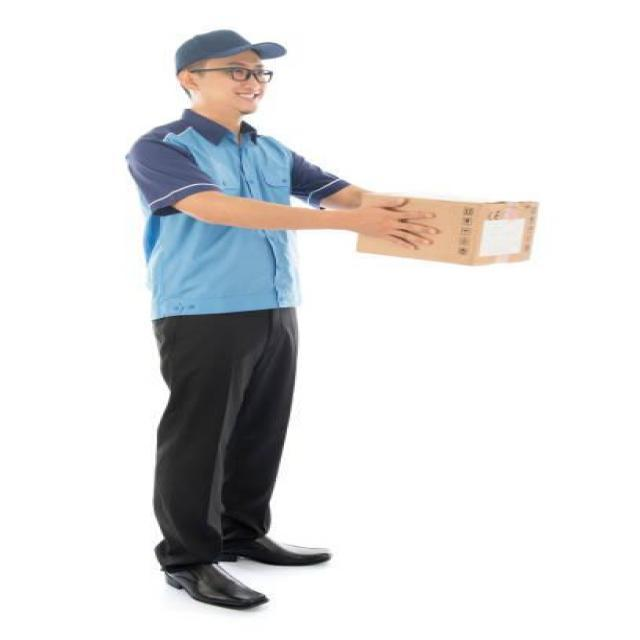box: (348, 179, 547, 273)
